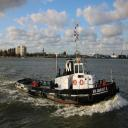tugboat: (15, 22, 122, 110)
